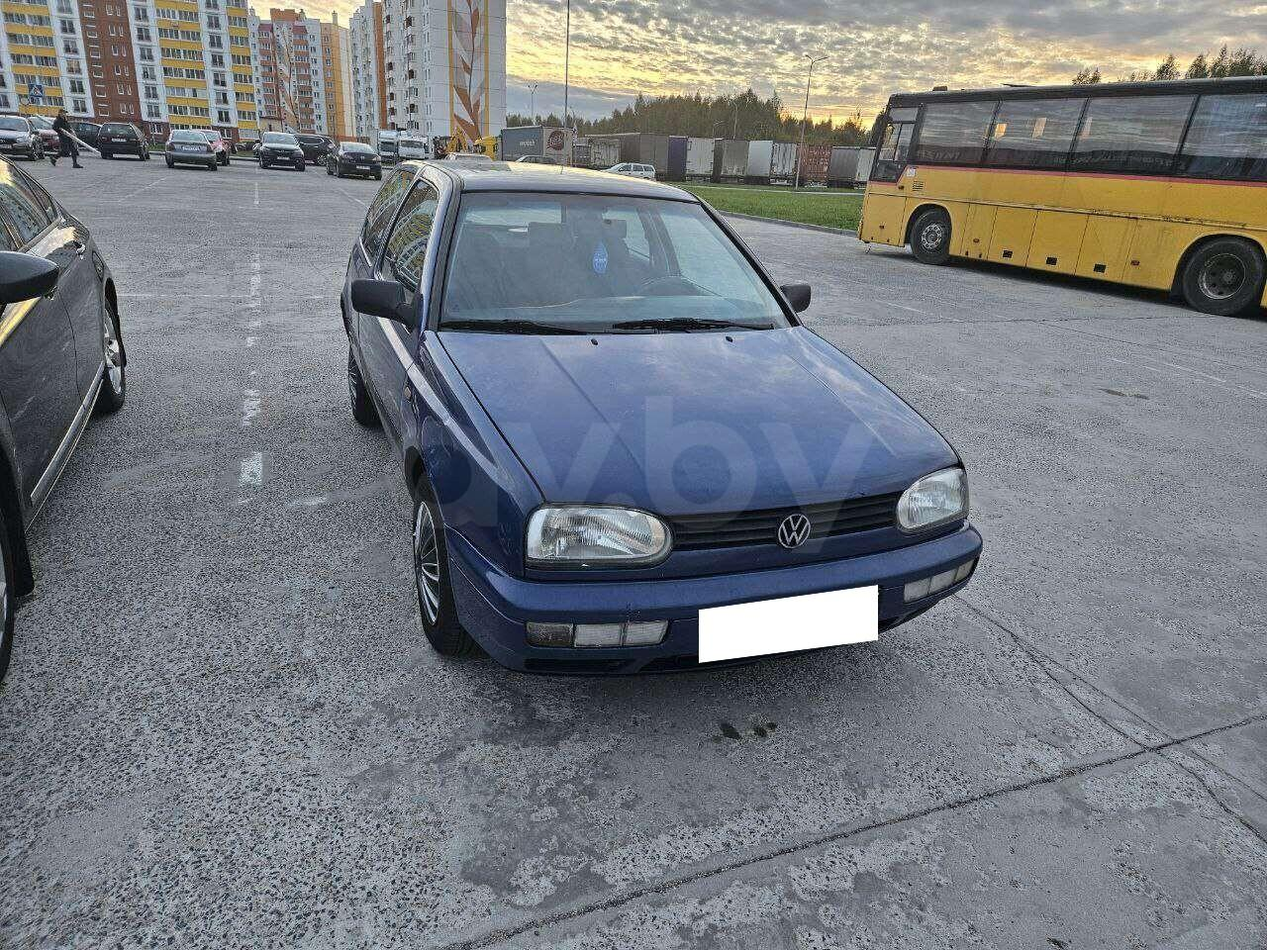Golf_1991-2000: (338, 152, 982, 687)
